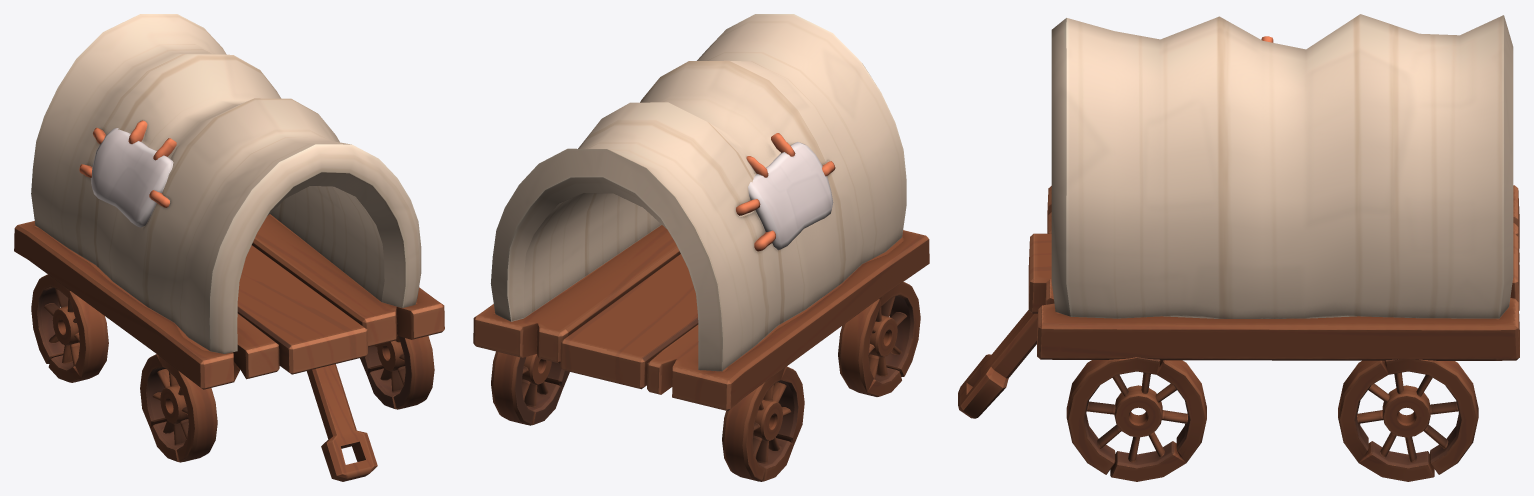
File: wagon_001.fbx
3 views of the same model, side by side, from view 1: azimuth 30°, elevation 25°; view 2: azimuth 150°, elevation 25°; view 3: azimuth 270°, elevation 25° (orthographic). The views are drawn at different scales.
Parts seen in each view (by area): view 1: wagon_001; view 2: wagon_001; view 3: wagon_001.
Part boxes in pixels (x1=…): wagon_001: x1=14, y1=14, x2=444, y2=481; wagon_001: x1=473, y1=14, x2=929, y2=481; wagon_001: x1=958, y1=14, x2=1519, y2=481.
Size of the model in its own units: 219 by 269 by 354.
